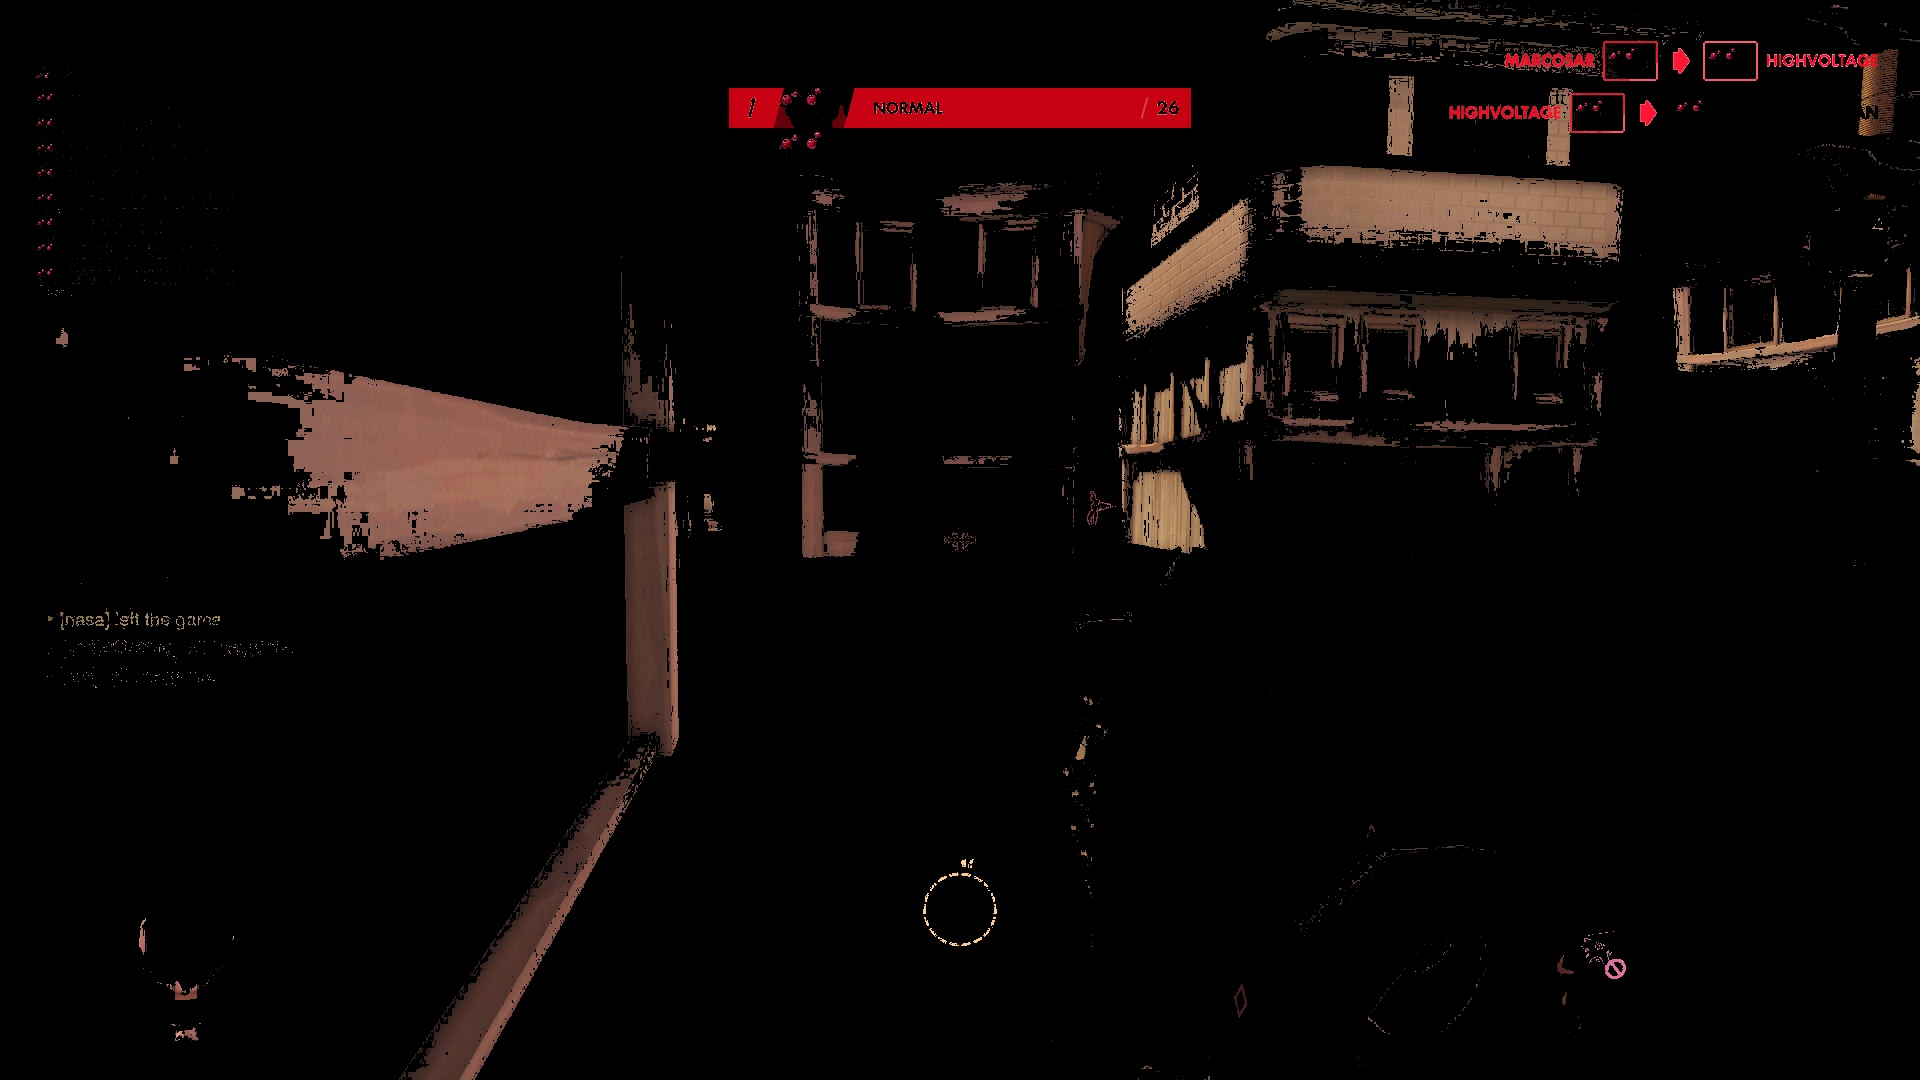widowmaker: (1083, 487, 1113, 530)
